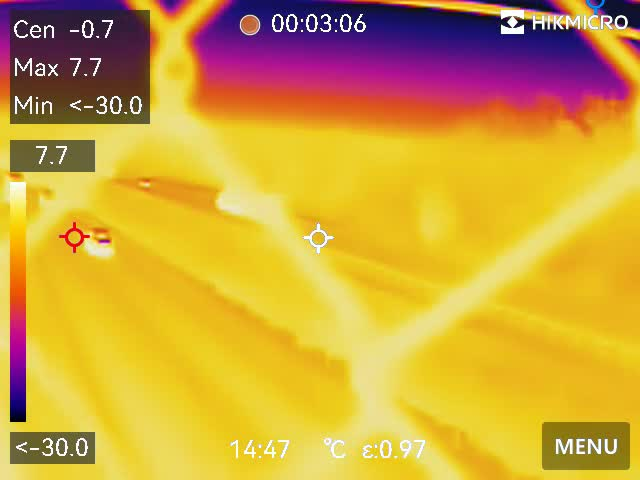heavyTruck: (209, 186, 296, 228)
vehicle: (80, 221, 116, 260)
